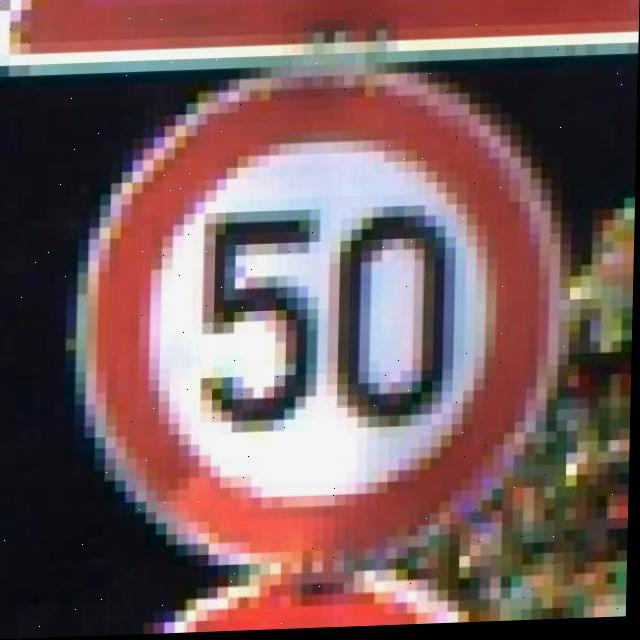Speed limit 50: (70, 49, 571, 636)
